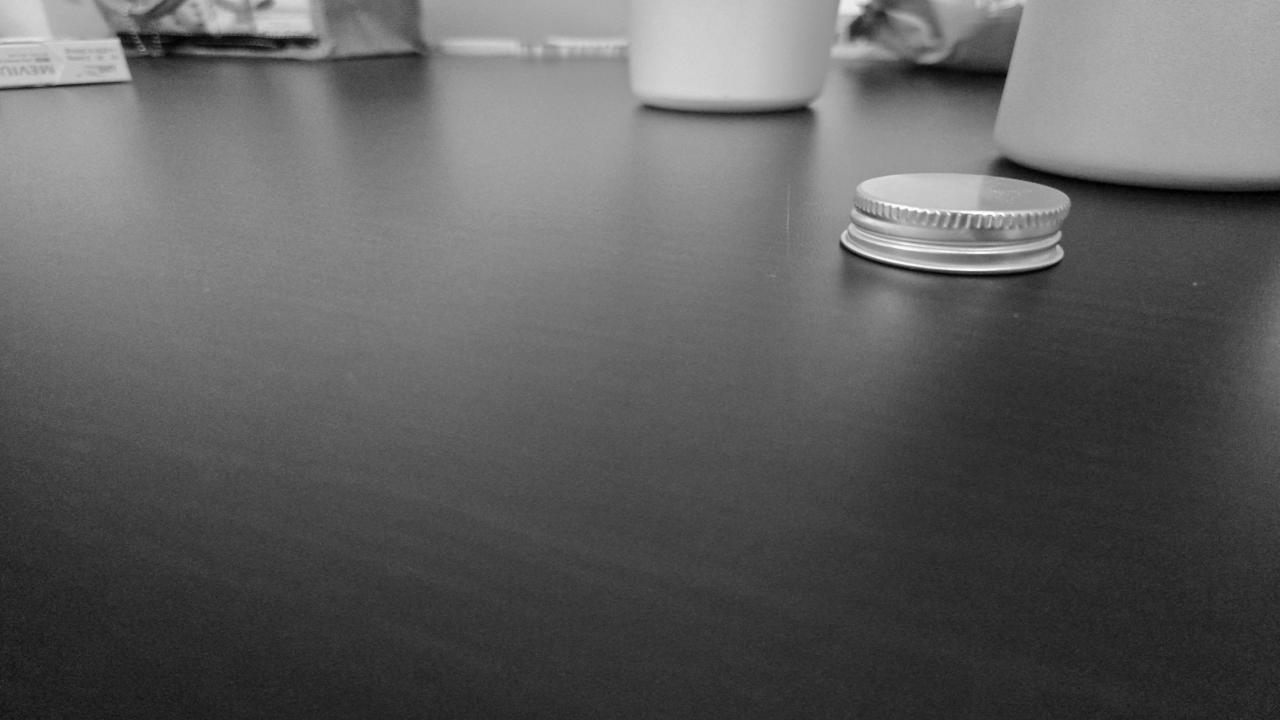bottle_cap: (841, 175, 1070, 274)
